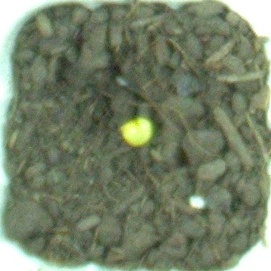chilli seed: (118, 117, 154, 147)
